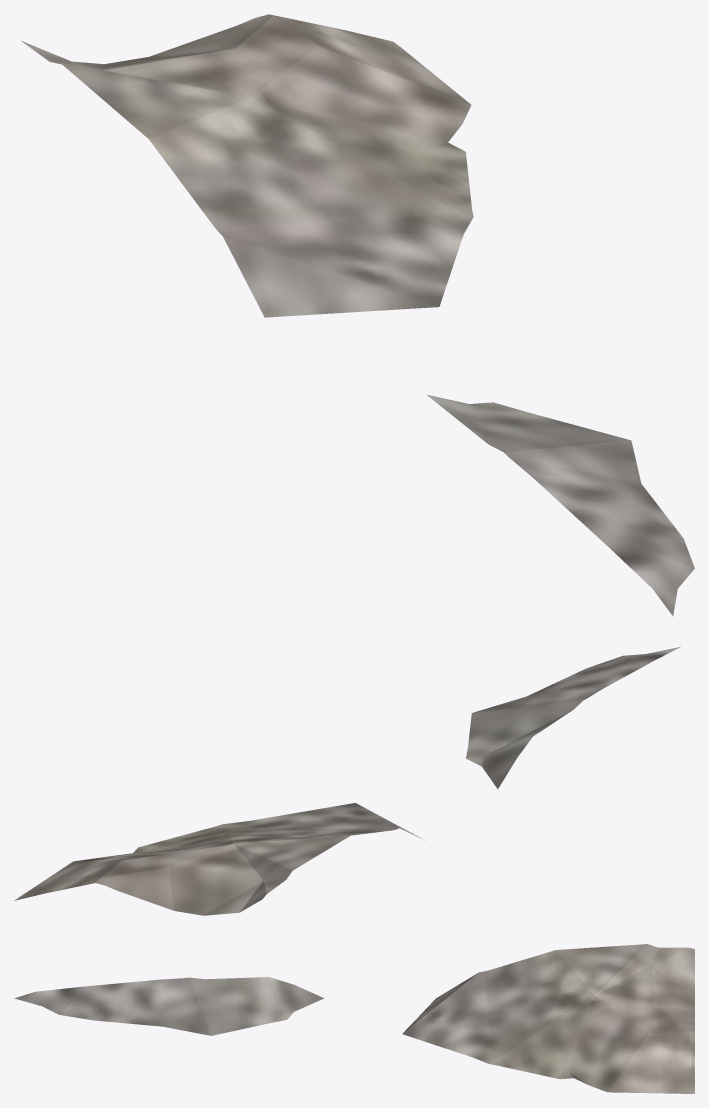
The picture shows the model from 3 angles, top to bottom: view 1: azimuth 30°, elevation 25°; view 2: azimuth 150°, elevation 25°; view 3: azimuth 270°, elevation 25°; orthographic projection. The views are drawn at different scales.
Bounding box in the file's own units: 0.1428 × 0.0379 × 0.43.
Materials: 1 (1 with a texture image).
